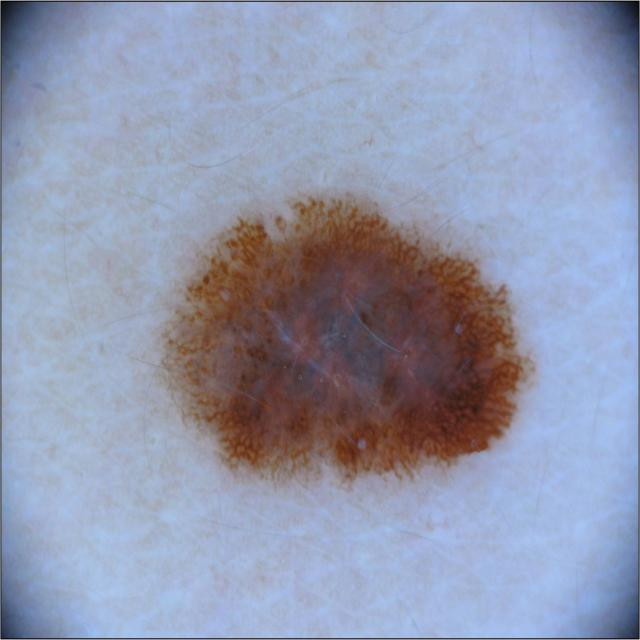Benign: (157, 185, 533, 492)
